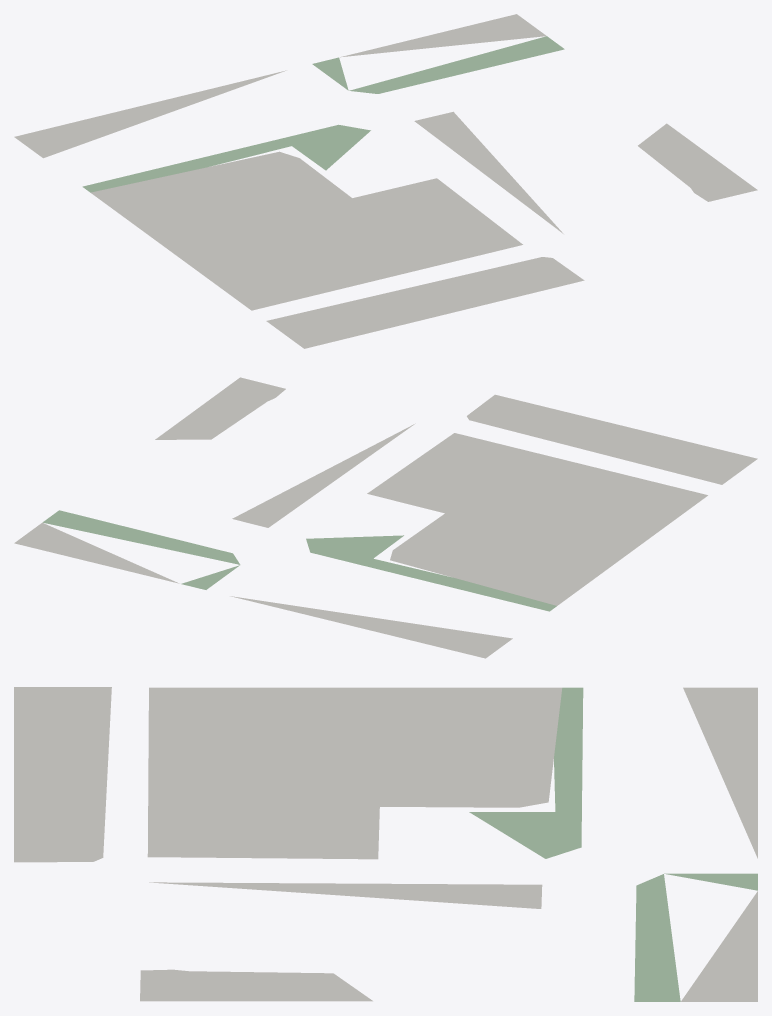
Rendered from 123_71_mid.glb.
3 views of the same model, one above another, from view 1: azimuth 30°, elevation 25°; view 2: azimuth 150°, elevation 25°; view 3: azimuth 270°, elevation 25° (orthographic). The views are drawn at different scales.
Size of the model in its own units: 500 by 0.5586 by 500.
